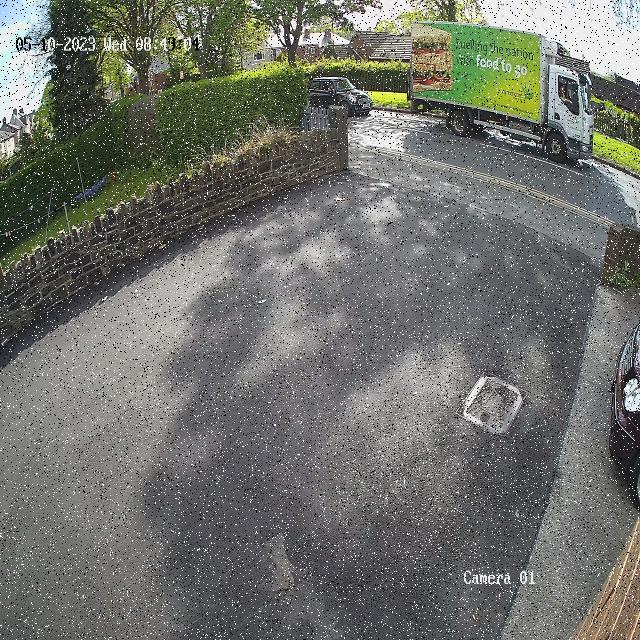vehicle: (406, 13, 598, 177), (305, 70, 378, 124)
